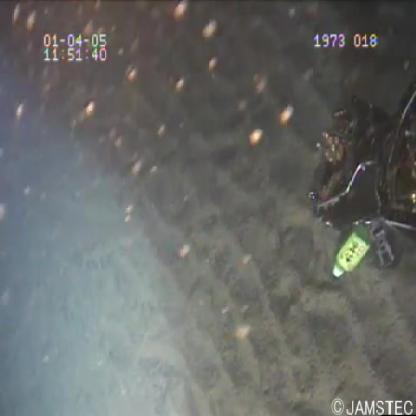Rov: (307, 71, 416, 270)
Rác: (330, 224, 374, 282)
